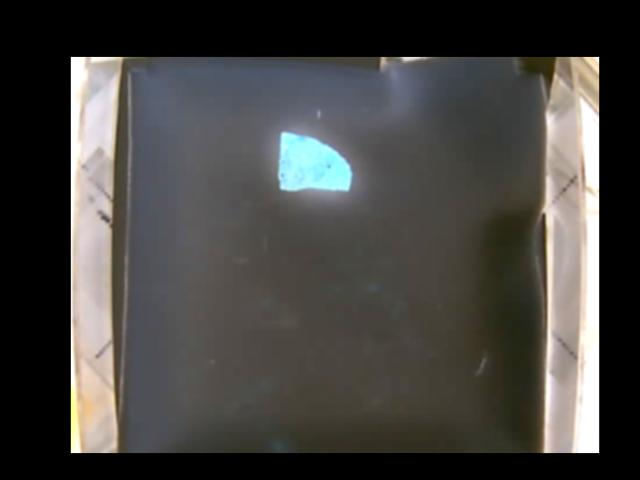Brisk: (276, 129, 354, 193)
